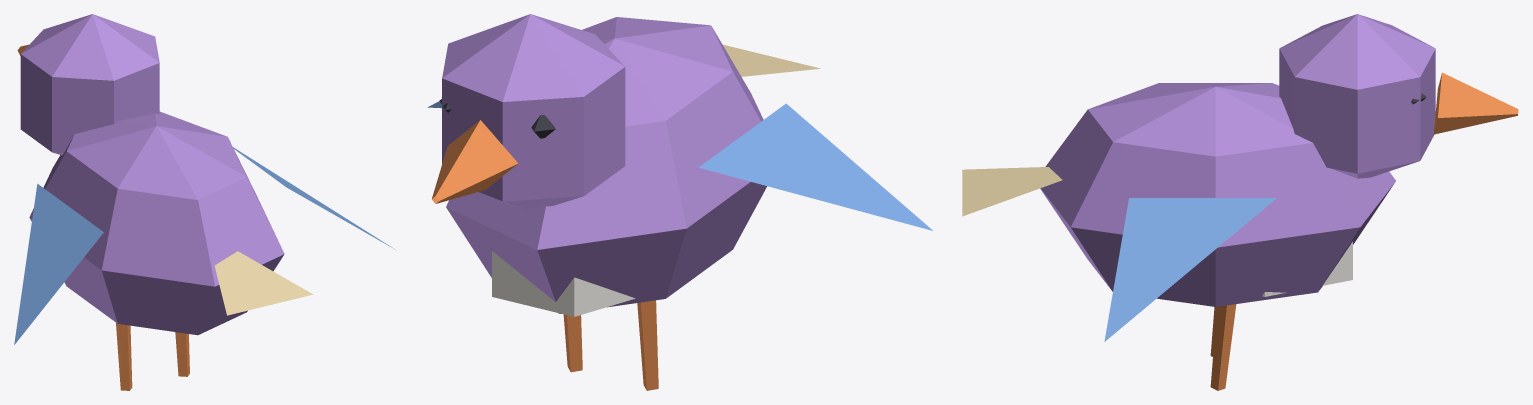
Rendered from deco_bird.obj.
3 renders of one model, left to right at view 1: azimuth 30°, elevation 25°; view 2: azimuth 150°, elevation 25°; view 3: azimuth 270°, elevation 25°, orthographic. The views are drawn at different scales.
Parts seen in each view (by area): view 1: deco_bird; view 2: deco_bird; view 3: deco_bird.
Part boxes in pixels (bbox=[...]): deco_bird: bbox=[14, 14, 395, 390]; deco_bird: bbox=[427, 14, 932, 390]; deco_bird: bbox=[962, 14, 1518, 390].
Size of the model in its own units: 0.04 by 0.0321 by 0.045.
1 material, 1 textured.
